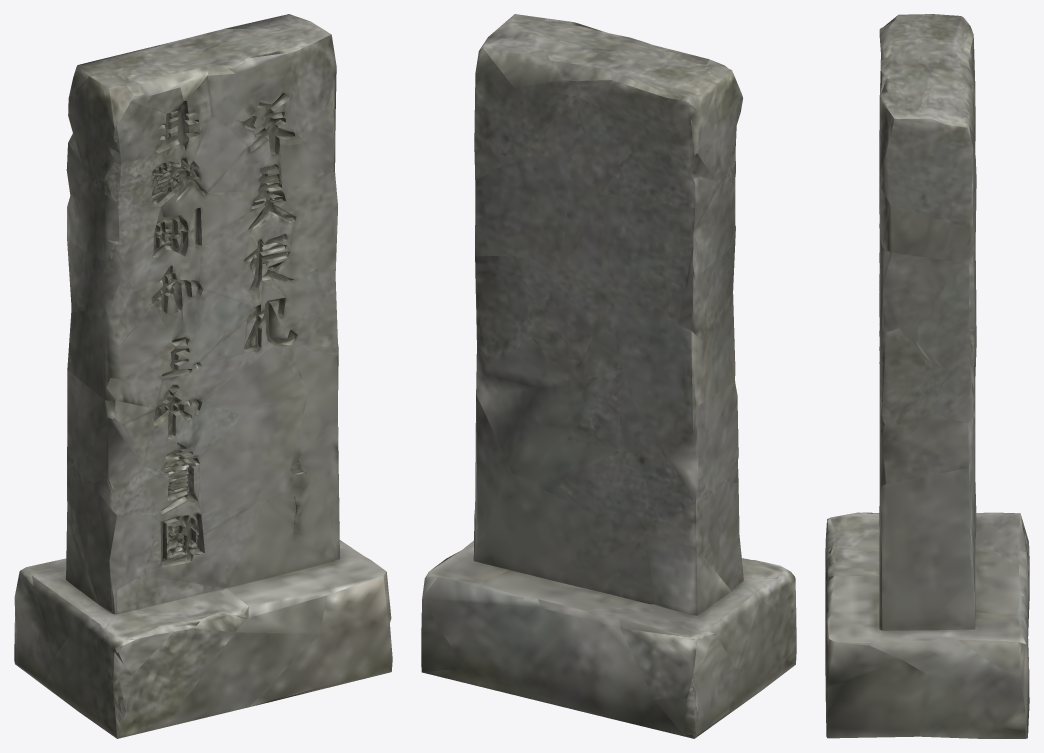
Rendered from cheokhwabi.glb.
The picture shows the model from 3 angles, left to right: view 1: azimuth 30°, elevation 25°; view 2: azimuth 150°, elevation 25°; view 3: azimuth 270°, elevation 25°; orthographic projection.
Bounding box in the file's own units: 0.8938 × 1.9 × 0.5789.
1 material, 1 textured.
